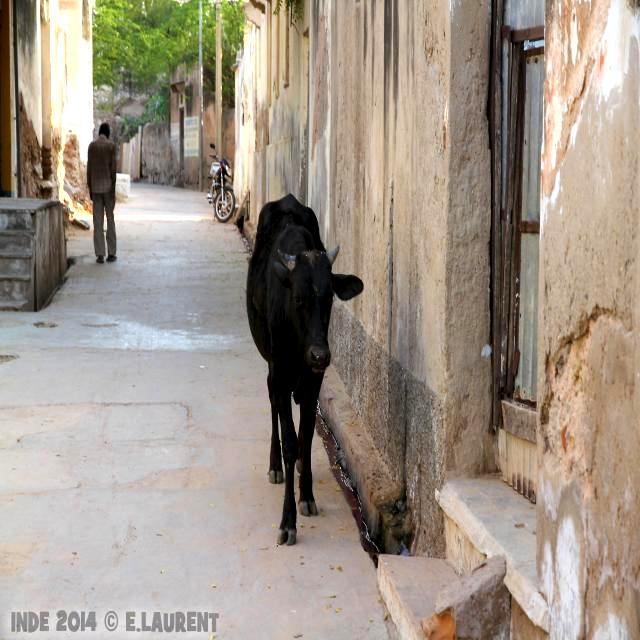COW: (246, 193, 364, 546)
